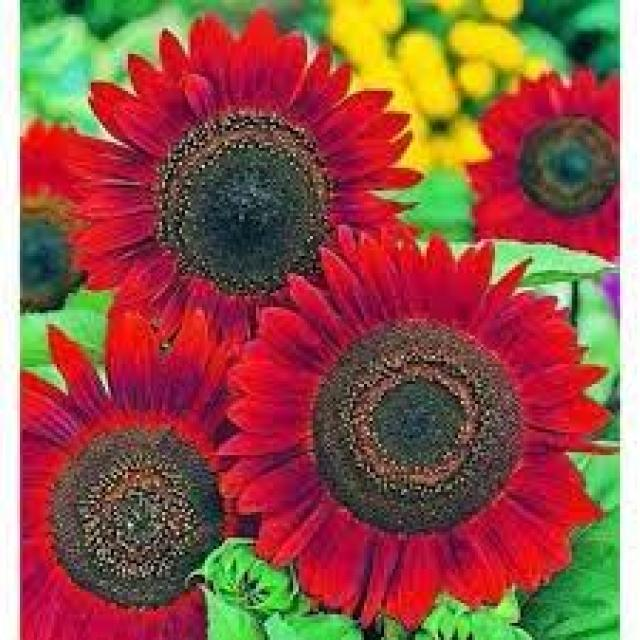sunflower: (205, 210, 640, 640), (65, 3, 423, 365), (0, 264, 307, 640), (453, 58, 640, 267), (13, 106, 142, 387)
